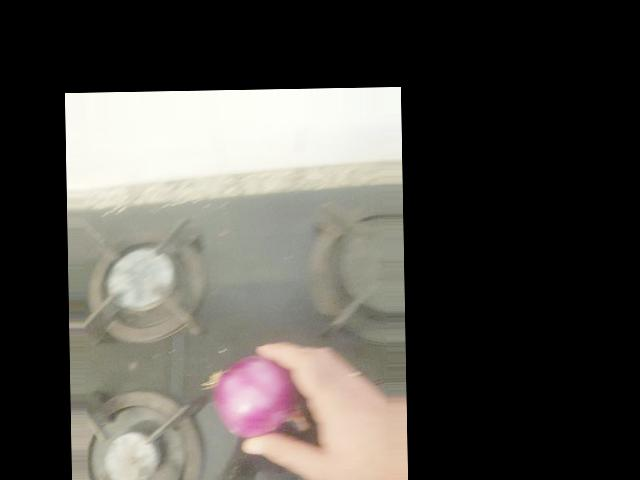onion: (214, 355, 301, 441)
